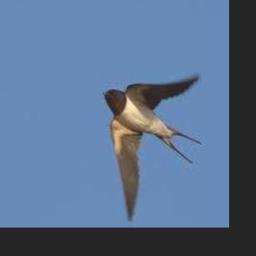Swallow: (104, 74, 202, 223)
